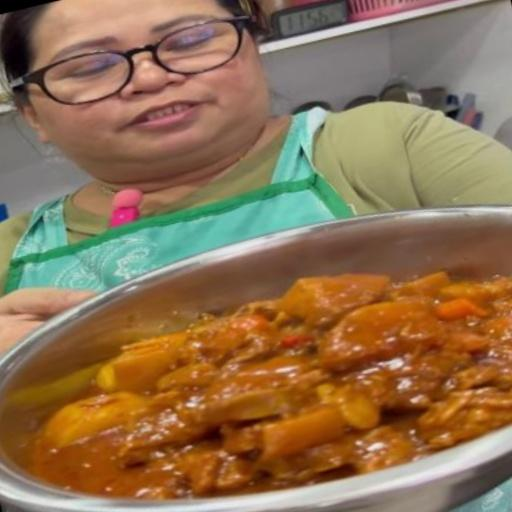pork caldereta: (29, 274, 511, 498)
